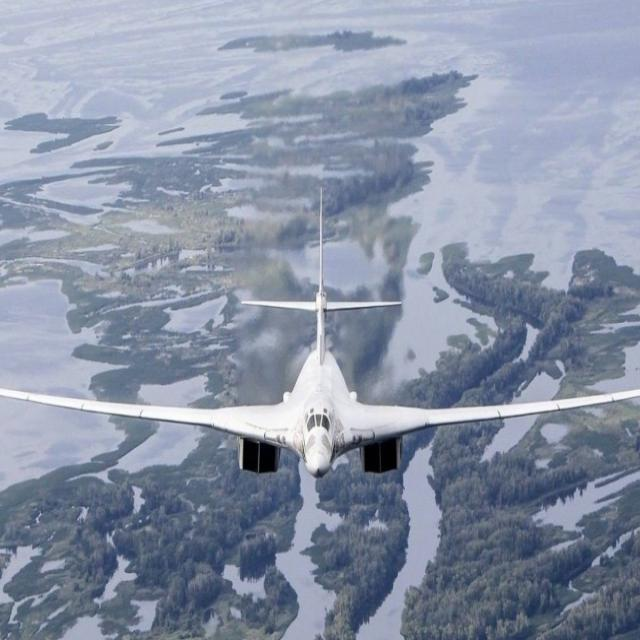Tu160: (5, 153, 640, 612)
